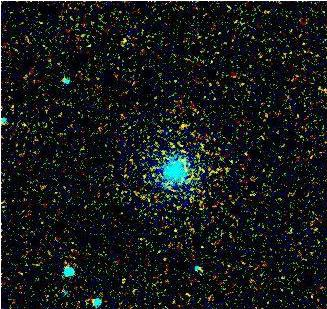star: (162, 112, 192, 142)
